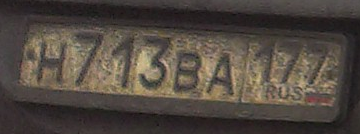character: (139, 32, 171, 96), (75, 30, 105, 90), (35, 40, 70, 87), (207, 52, 238, 101), (110, 33, 135, 90), (305, 39, 333, 86), (175, 50, 202, 98), (279, 39, 304, 87), (254, 37, 277, 85)
